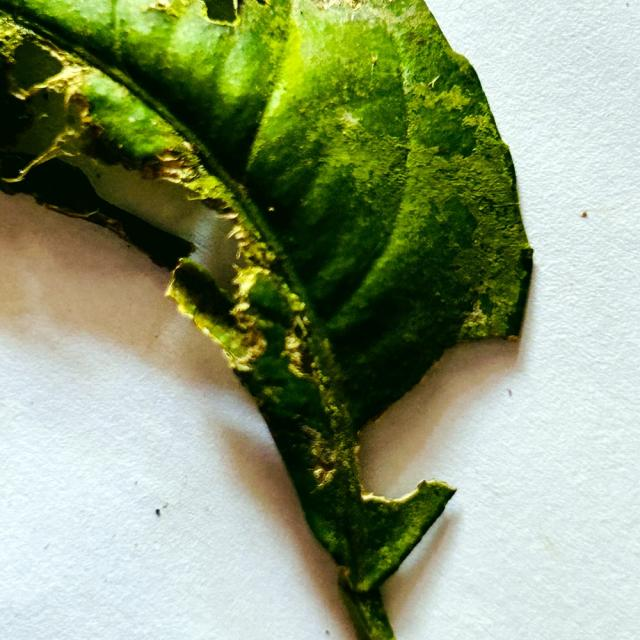Deficiency Leaf: (358, 339, 518, 497), (76, 156, 242, 289), (4, 90, 64, 158), (6, 38, 62, 99), (203, 0, 243, 32)
Lemon: (0, 0, 539, 639)
